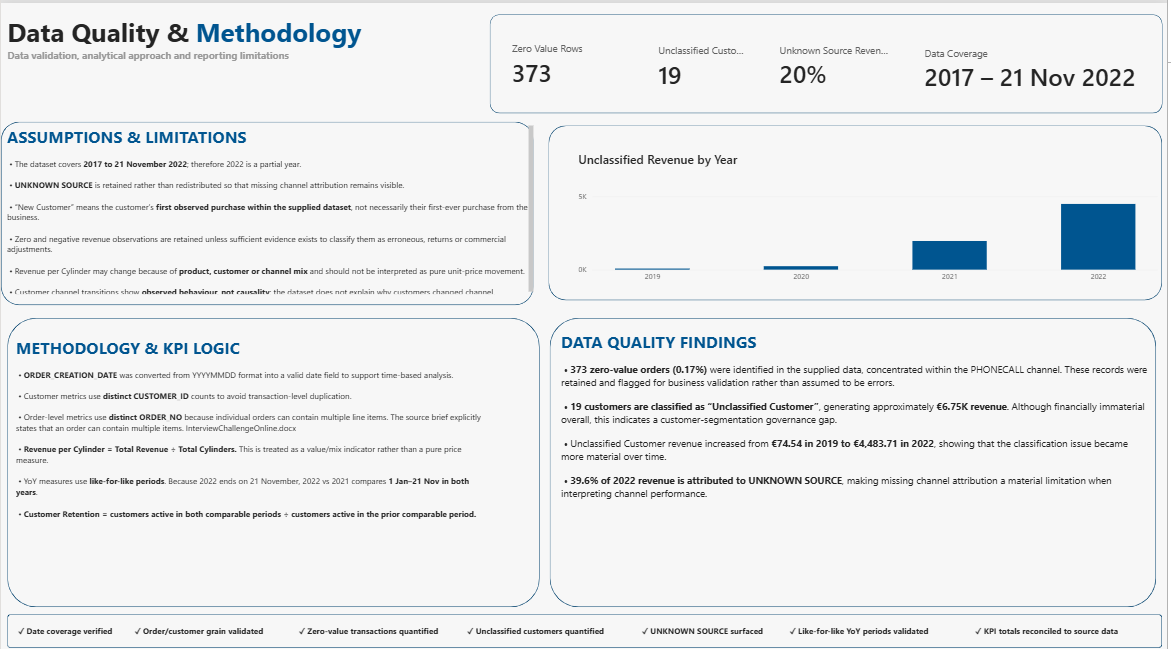

Layout of this report page (visuals, bound fields, positions):
{"tool":"powerbi","page":{"name":"Data Quality & Methodology","canvas":[1920,1080],"ordinal":4},"visuals":[{"type":"shape","box":[10.8,1006.2,1901.5,55.5],"z":0},{"type":"shape","box":[902.3,202.3,1010.2,287.8],"z":1000},{"type":"shape","box":[804.4,18.5,1107.9,163.3],"z":2000},{"type":"cardVisual","fields":{"Data":["Order.Zero Value Rows"]},"box":[825.9,35.4,190.4,136.4],"z":3000},{"type":"cardVisual","fields":{"Data":["Order.Unclassified Customers"]},"box":[1066.3,35.4,185.9,142.4],"z":4000},{"type":"columnChart","fields":{"Category":["Date.Year"],"Y":["Order.Unclassified Revenue"]},"box":[933.8,228.1,986.2,251.8],"z":5000},{"type":"shape","box":[0,195.7,876.8,302],"z":7000},{"type":"textbox","box":[24.7,1006.2,1866.1,41.6],"z":8000},{"type":"textbox","box":[10.5,18,646,116.9],"z":10000},{"type":"shape","box":[10.8,517.8,876.8,476.1],"z":11000},{"type":"shape","box":[903,517.8,998.5,476.1],"z":12000},{"type":"cardVisual","fields":{"Data":["Order.Data Coverage"]},"box":[1503.9,37,397.6,146.4],"z":13000},{"type":"cardVisual","fields":{"Data":["Order.Unknown Source Revenue %"]},"box":[1266.6,30.8,211.1,149.5],"z":14000},{"type":"textbox","box":[921.5,539.3,969.2,439.2],"z":15000},{"type":"textbox","box":[24.7,548.6,779.7,394.5],"z":16000},{"type":"textbox","box":[10.8,201.9,866,277.4],"z":17000}]}

Visuals, with their boxes in screenshot pixels (x1, y1, x2, y2), scaled from the page's 1920x1080 canvas onto the 1171x649 screenshot:
shape: select_region(7, 605, 1166, 638)
shape: select_region(550, 122, 1166, 295)
shape: select_region(491, 11, 1166, 109)
cardVisual - Order.Zero Value Rows: select_region(504, 21, 620, 103)
cardVisual - Order.Unclassified Customers: select_region(650, 21, 764, 107)
columnChart - Date.Year x Order.Unclassified Revenue: select_region(570, 137, 1170, 288)
shape: select_region(0, 118, 535, 299)
textbox: select_region(15, 605, 1153, 630)
textbox: select_region(6, 11, 400, 81)
shape: select_region(7, 311, 541, 597)
shape: select_region(551, 311, 1160, 597)
cardVisual - Order.Data Coverage: select_region(917, 22, 1160, 110)
cardVisual - Order.Unknown Source Revenue %: select_region(772, 19, 901, 108)
textbox: select_region(562, 324, 1153, 588)
textbox: select_region(15, 330, 491, 567)
textbox: select_region(7, 121, 535, 288)
